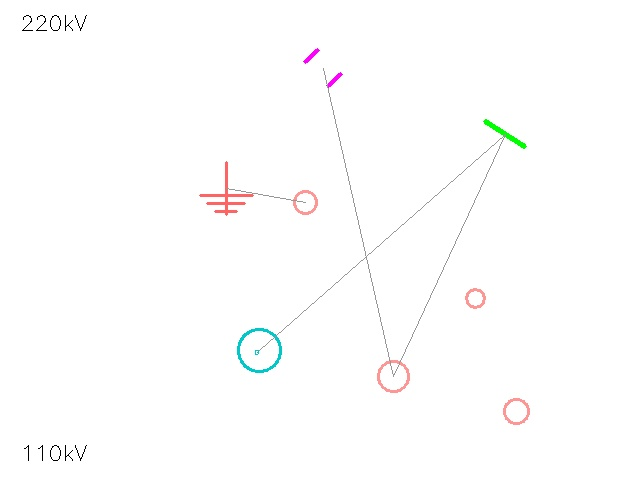busbar: (476, 105, 534, 163)
capacitor: (296, 41, 350, 95)
current_transformer: (282, 179, 328, 225)
fuse: (362, 345, 424, 407)
generator: (238, 329, 280, 371)
ground: (200, 162, 252, 214)
load_break_switch: (456, 279, 494, 317)
reactor: (491, 386, 541, 436)
